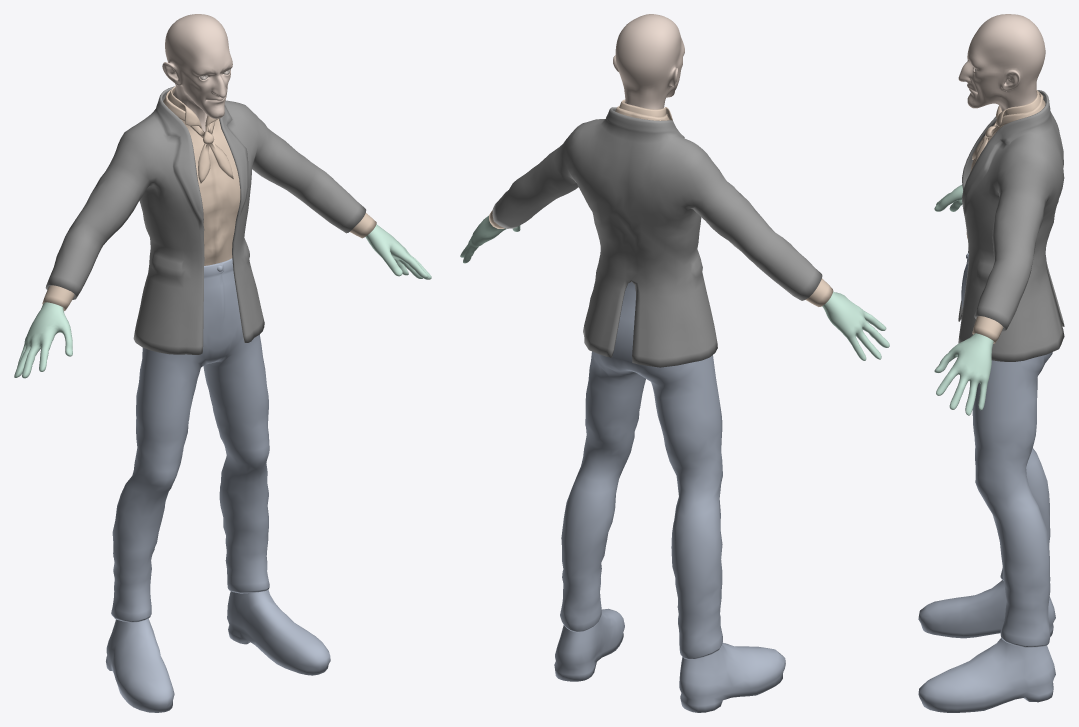
File: dapperDan01.fbx
3 renders of one model, left to right at view 1: azimuth 30°, elevation 25°; view 2: azimuth 150°, elevation 25°; view 3: azimuth 270°, elevation 25°, orthographic. The views are drawn at different scales.
Visible parts, largest first — view 1: Coat_high, Pants_high, Shoes_high, Body_msh, Shirt_high_msh, Tie_high; view 2: Coat_high, Pants_high, Shoes_high, Body_msh, Shirt_high_msh; view 3: Coat_high, Pants_high, Shoes_high, Body_msh, Shirt_high_msh, Tie_high.
Boxes of the visible parts, x1,y1,x2,y2 form: Coat_high: [45, 86, 366, 354]; Pants_high: [111, 258, 269, 622]; Shoes_high: [106, 589, 330, 712]; Body_msh: [14, 14, 431, 378]; Shirt_high_msh: [42, 86, 376, 310]; Tie_high: [163, 90, 233, 183]; Coat_high: [492, 107, 822, 367]; Pants_high: [560, 282, 722, 659]; Shoes_high: [554, 608, 785, 712]; Body_msh: [460, 14, 889, 360]; Shirt_high_msh: [489, 99, 833, 306]; Coat_high: [958, 90, 1064, 361]; Pants_high: [961, 253, 1052, 647]; Shoes_high: [918, 580, 1055, 712]; Body_msh: [934, 14, 1045, 415]; Shirt_high_msh: [966, 90, 1040, 343]; Tie_high: [972, 91, 1045, 167].
Size of the model in its own units: 113 by 34.77 by 170.
